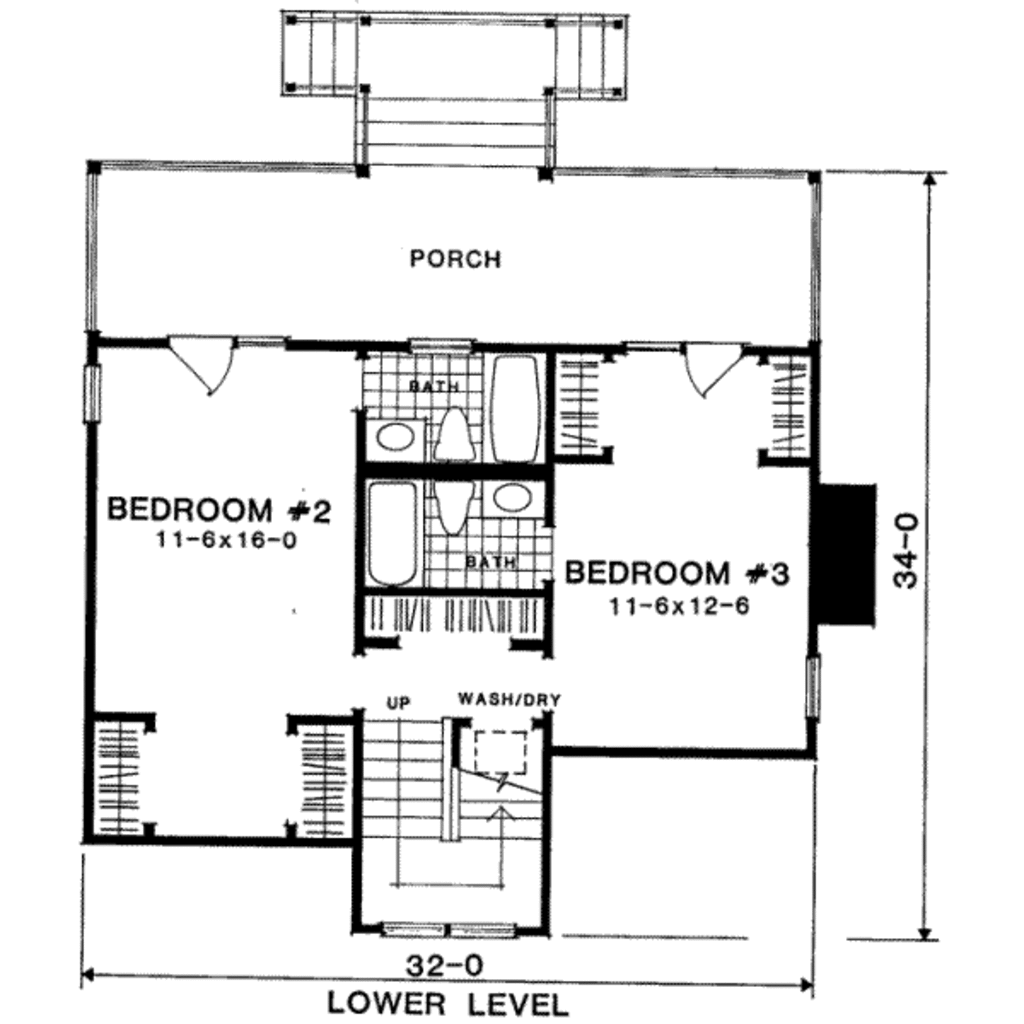door: (161, 335, 238, 392), (684, 338, 750, 399)
large_sink: (429, 479, 477, 539), (436, 406, 481, 461)
small_sink: (481, 474, 548, 522), (364, 418, 425, 462)
stairs: (274, 4, 634, 169), (349, 716, 541, 923)
tub: (483, 349, 548, 466), (365, 481, 425, 589)
windows: (379, 920, 526, 946), (804, 655, 827, 728), (80, 363, 105, 428), (402, 333, 477, 354)
